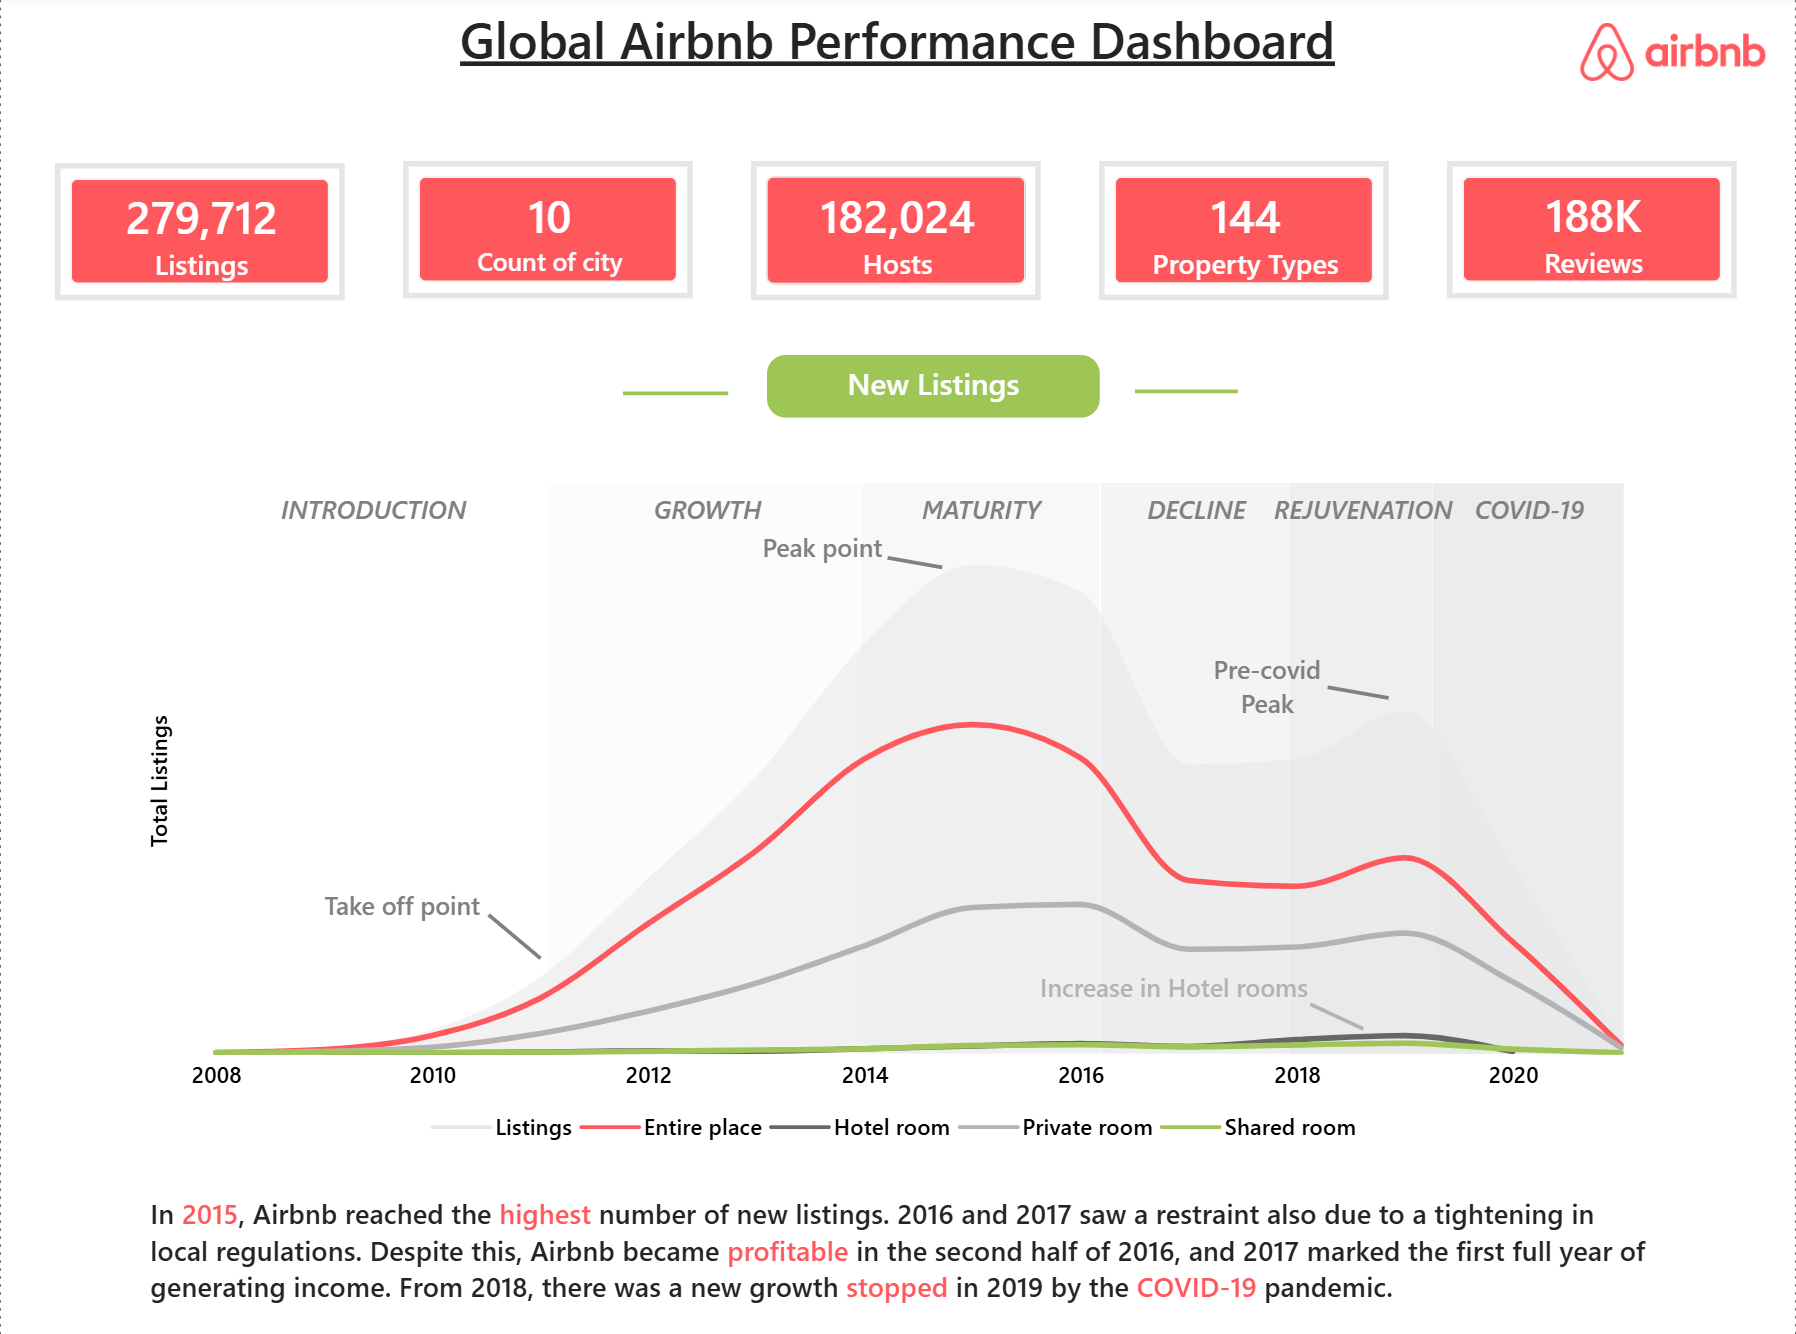

This screenshot's page, from the dashboard's own definition file:
{"tool":"powerbi","page":{"name":"Overview","canvas":[960,720],"ordinal":0},"visuals":[{"type":"textbox","box":[217.6,0,524.8,60.9],"z":0},{"type":"image","box":[839.4,14.9,109.1,31],"z":1000},{"type":"cardVisual","fields":{"Data":["CountNonNull(Listings.listing_id)"]},"box":[28.7,89.6,155,73.5],"z":2000},{"type":"cardVisual","fields":{"Data":["Count(Listings.city)"]},"box":[215,88.4,155,73.5],"z":3000},{"type":"cardVisual","fields":{"Data":["Count(Listings.host_id)"]},"box":[401.3,88.4,155,74.6],"z":4000},{"type":"cardVisual","fields":{"Data":["Count(Listings.property_type)"]},"box":[587.7,88.4,155,74.6],"z":5000},{"type":"cardVisual","fields":{"Data":["CountNonNull(Listings.review_scores_rating)"]},"box":[774,88.4,155,73.5],"z":6000},{"type":"textbox","box":[410,192.9,178,33.3],"z":7000},{"type":"shape","box":[332.4,202.1,56.3,21.8],"z":8000},{"type":"shape","box":[606.9,201,55.1,21.8],"z":9000},{"type":"shape","box":[106.8,260.7,186,305.5],"z":10000},{"type":"shape","box":[292.8,260.7,168.8,305.5],"z":11000},{"type":"shape","box":[461.6,260.7,126.3,305.5],"z":12000},{"type":"shape","box":[587.9,260.7,102.2,305.5],"z":13000},{"type":"shape","box":[690.1,260.7,75.8,305.5],"z":14000},{"type":"shape","box":[765.9,260.7,102.2,305.5],"z":15000},{"type":"textbox","box":[124,260.7,150.4,34.4],"z":16000},{"type":"textbox","box":[295.1,260.7,165.4,35.6],"z":17000},{"type":"textbox","box":[460.5,260.7,128.6,35.6],"z":18000},{"type":"textbox","box":[589.1,260.7,99.9,35.6],"z":19000},{"type":"textbox","box":[671.8,260.7,113.7,37.9],"z":20000},{"type":"textbox","box":[775.1,260.7,83.8,35.6],"z":21000},{"type":"textbox","box":[157.3,473.1,114.8,35.6],"z":22000},{"type":"shape","box":[254.9,491.5,40.2,25.3],"z":23000},{"type":"textbox","box":[389.3,281.3,99.9,34.4],"z":24000},{"type":"shape","box":[474.3,290.5,29.9,25.3],"z":25000},{"type":"textbox","box":[635,346.8,83.8,45.9],"z":26000},{"type":"shape","box":[709.7,360.6,33.3,25.3],"z":27000},{"type":"textbox","box":[540.9,516.7,172.2,34.4],"z":28000},{"type":"shape","box":[699.3,534,29.9,25.3],"z":29000},{"type":"lineChart","fields":{"Category":["Listings.host_since.Variation.Date Hierarchy.Year","Listings.host_since.Variation.Date Hierarchy.Quarter","Listings.host_since.Variation.Date Hierarchy.Month","Listings.host_since.Variation.Date Hierarchy.Day"],"Y":["CountNonNull(Listings.listing_id)","Listings.Entire place","Listings.Hotel room","Listings.Private room","Listings.Shared room"]},"box":[74.6,260.7,810.7,362.9],"z":30000},{"type":"textbox","box":[74.6,636.2,810.7,83.8],"z":31000}]}

Visuals, with their boxes in screenshot pixels (x1, y1, x2, y2), scaled from the page's 960x720 canvas onto the 1796x1334 screenshot:
textbox: [407, 0, 1389, 113]
image: [1570, 28, 1774, 85]
cardVisual - CountNonNull(Listings.listing_id): [54, 166, 344, 302]
cardVisual - Count(Listings.city): [402, 164, 692, 300]
cardVisual - Count(Listings.host_id): [751, 164, 1041, 302]
cardVisual - Count(Listings.property_type): [1099, 164, 1389, 302]
cardVisual - CountNonNull(Listings.review_scores_rating): [1448, 164, 1738, 300]
textbox: [767, 357, 1100, 419]
shape: [622, 374, 727, 415]
shape: [1135, 372, 1238, 413]
shape: [200, 483, 548, 1049]
shape: [548, 483, 864, 1049]
shape: [864, 483, 1100, 1049]
shape: [1100, 483, 1291, 1049]
shape: [1291, 483, 1433, 1049]
shape: [1433, 483, 1624, 1049]
textbox: [232, 483, 513, 547]
textbox: [552, 483, 862, 549]
textbox: [862, 483, 1102, 549]
textbox: [1102, 483, 1289, 549]
textbox: [1257, 483, 1470, 553]
textbox: [1450, 483, 1607, 549]
textbox: [294, 877, 509, 943]
shape: [477, 911, 552, 958]
textbox: [728, 521, 915, 585]
shape: [887, 538, 943, 585]
textbox: [1188, 643, 1345, 728]
shape: [1328, 668, 1390, 715]
textbox: [1012, 957, 1334, 1021]
shape: [1308, 989, 1364, 1036]
lineChart - Listings.host_since.Variation.Date Hierarchy.Year x Listings.host_since.Variation.Date Hierarchy.Quarter: [140, 483, 1656, 1155]
textbox: [140, 1179, 1656, 1333]
